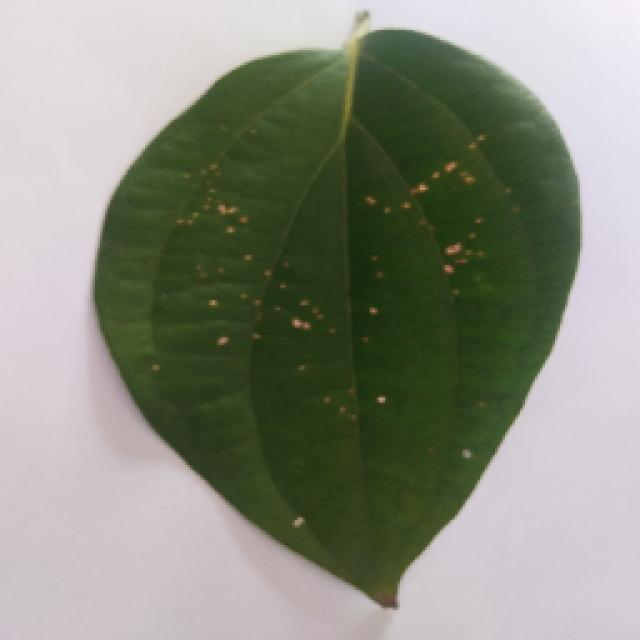pollu-disease: (95, 20, 575, 602)
